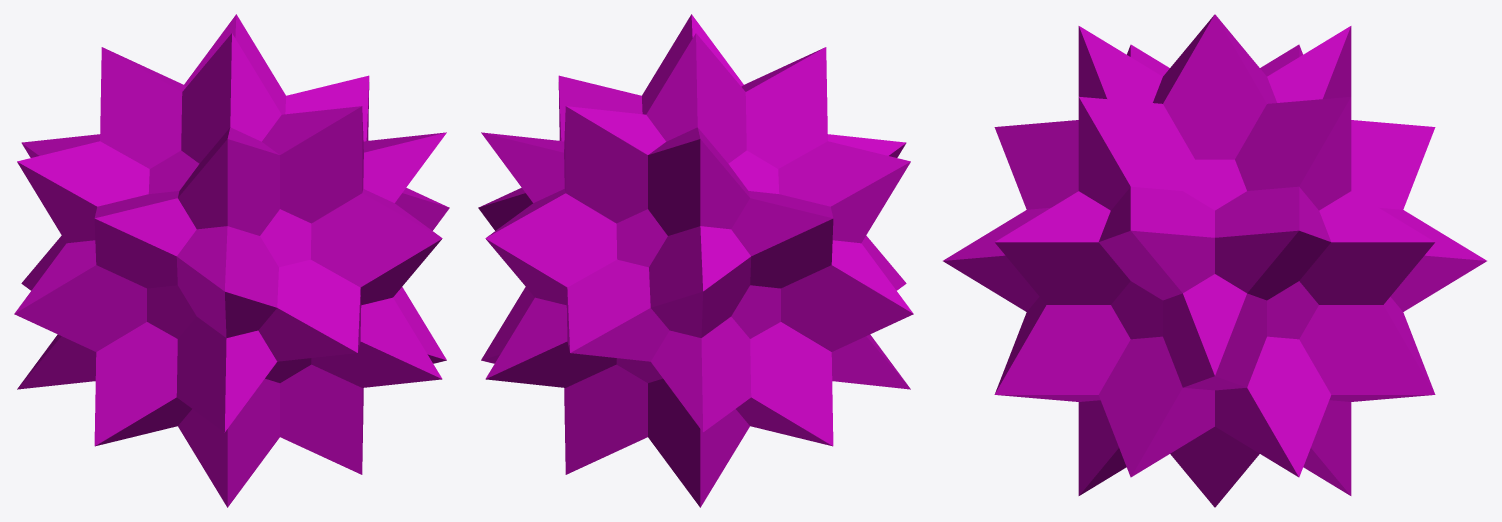
File: target.obj
The picture shows the model from 3 angles, left to right: view 1: azimuth 30°, elevation 25°; view 2: azimuth 150°, elevation 25°; view 3: azimuth 270°, elevation 25°; orthographic projection. The views are drawn at different scales.
Visible parts, largest first — view 1: Hedra001; view 2: Hedra001; view 3: Hedra001.
Boxes of the visible parts, x1,y1,x2,y2 form: Hedra001: (14, 14, 449, 507); Hedra001: (478, 14, 913, 507); Hedra001: (943, 14, 1486, 507).
Size of the model in its own units: 1 by 1 by 1.
